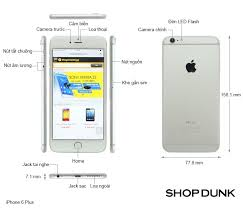iphone: (159, 30, 222, 154), (45, 29, 108, 153)
iphone6: (45, 31, 108, 155), (160, 31, 223, 155)
